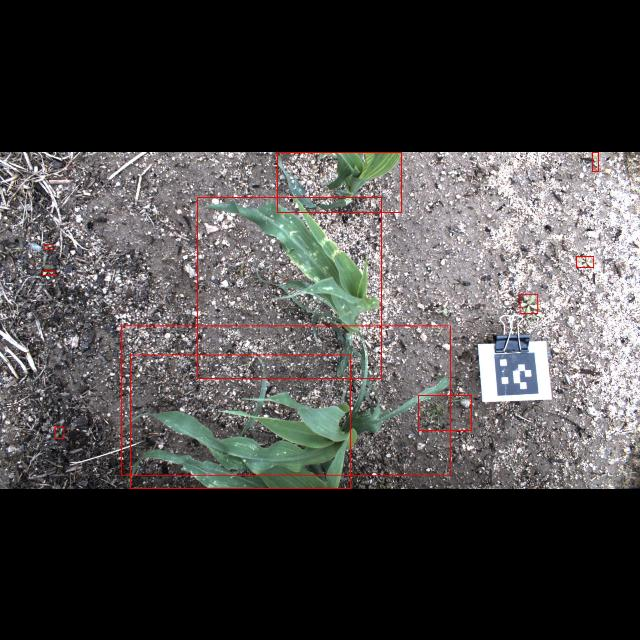crop: (122, 325, 450, 475), (197, 196, 381, 378), (130, 354, 350, 488), (277, 151, 401, 211)
weed: (418, 396, 472, 430), (520, 293, 538, 313), (576, 256, 594, 266), (592, 151, 598, 171), (54, 427, 64, 438), (43, 270, 55, 274), (44, 244, 52, 248)
